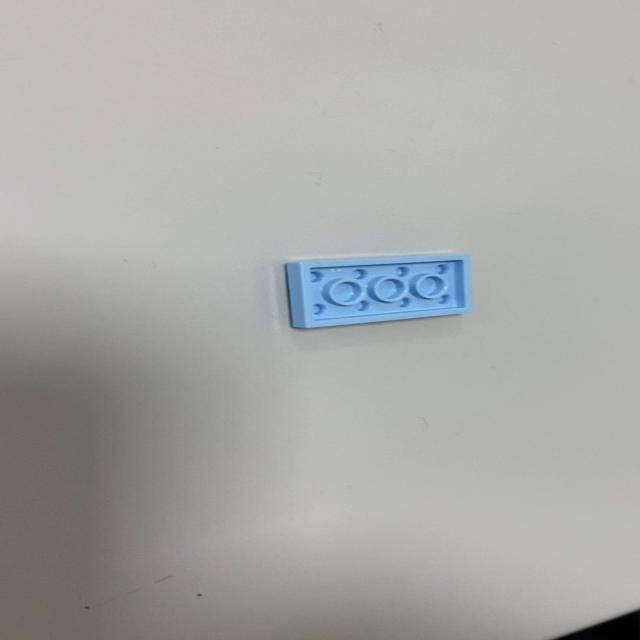C4x2x0: (280, 253, 470, 329)
